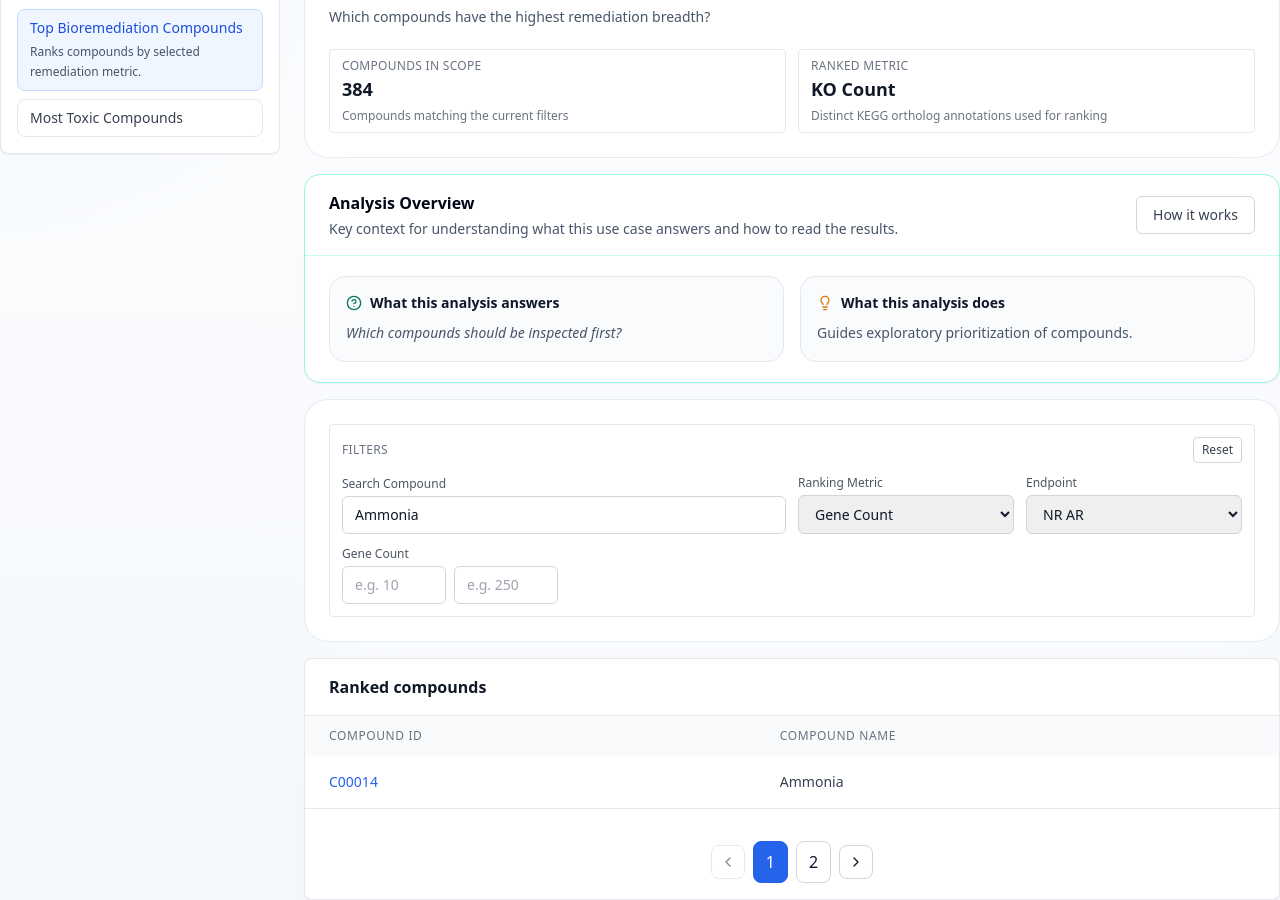
Test: GuidedAnalysisPage › re-executes the query when pagination changes
(page scrolled)
Expected: the text "Ammonia" is shown, [756,756,1279,808]
Click the button "2".
click(814, 862)  # box [796,841,831,883]
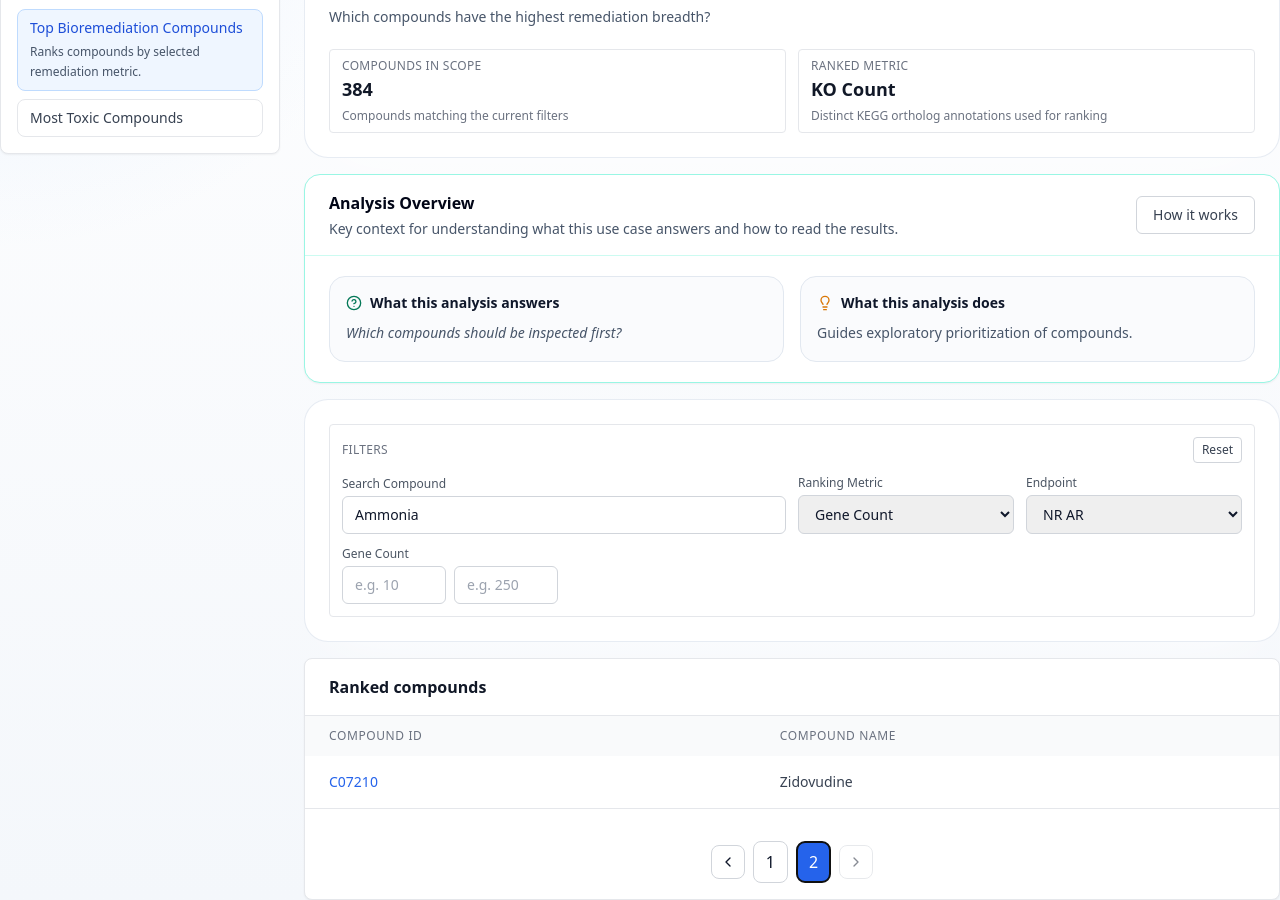
Result: the text "Zidovudine" is shown at [756,756,1279,808]
